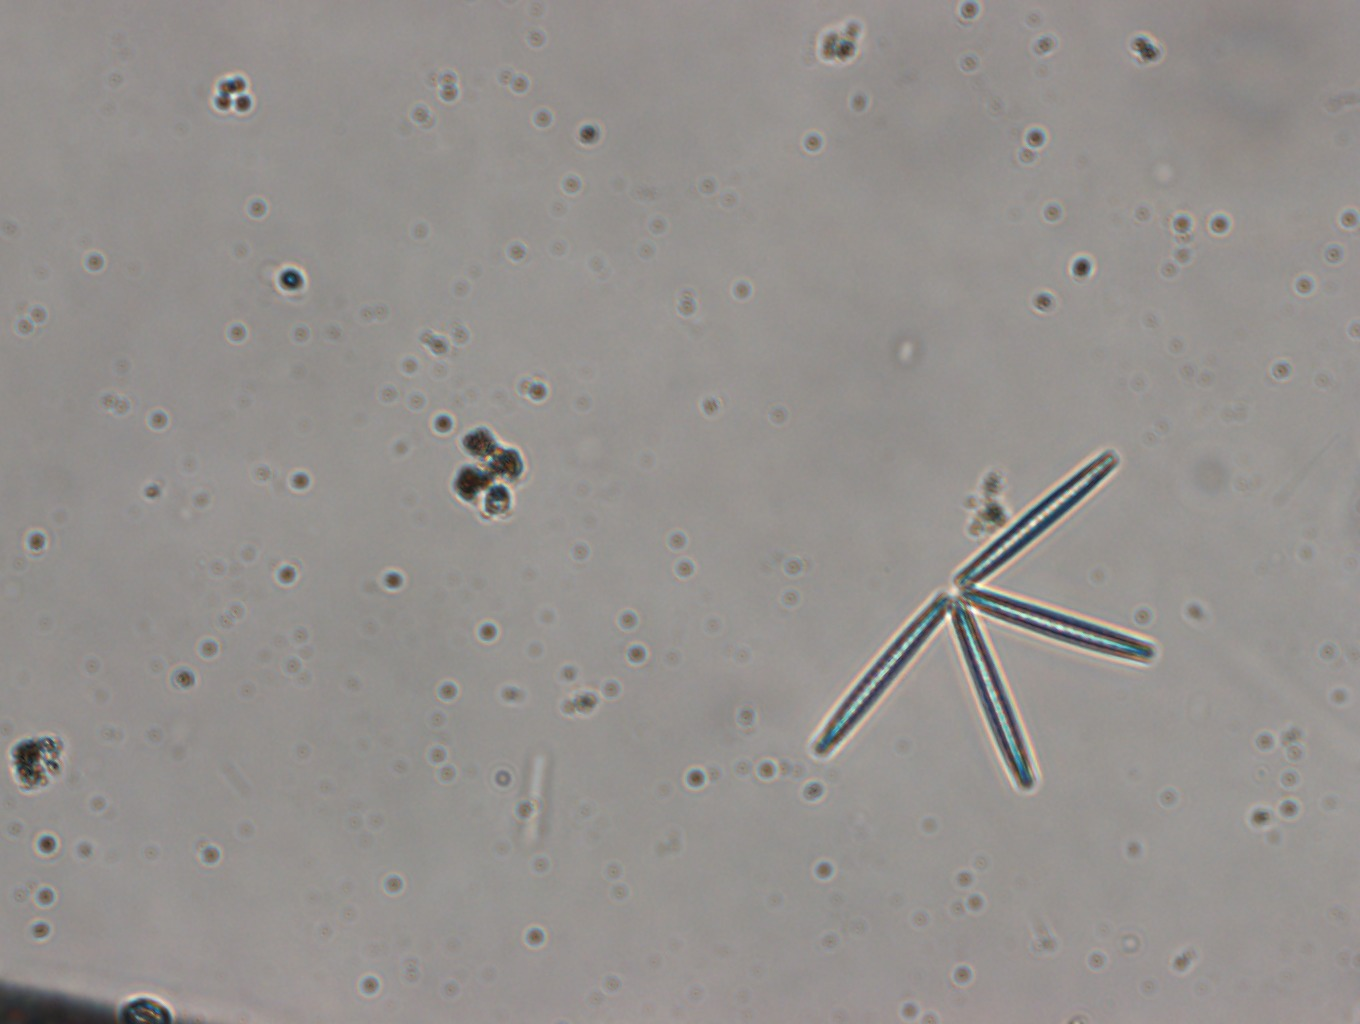thalassionema nitzschioides: (808, 445, 1160, 794)
